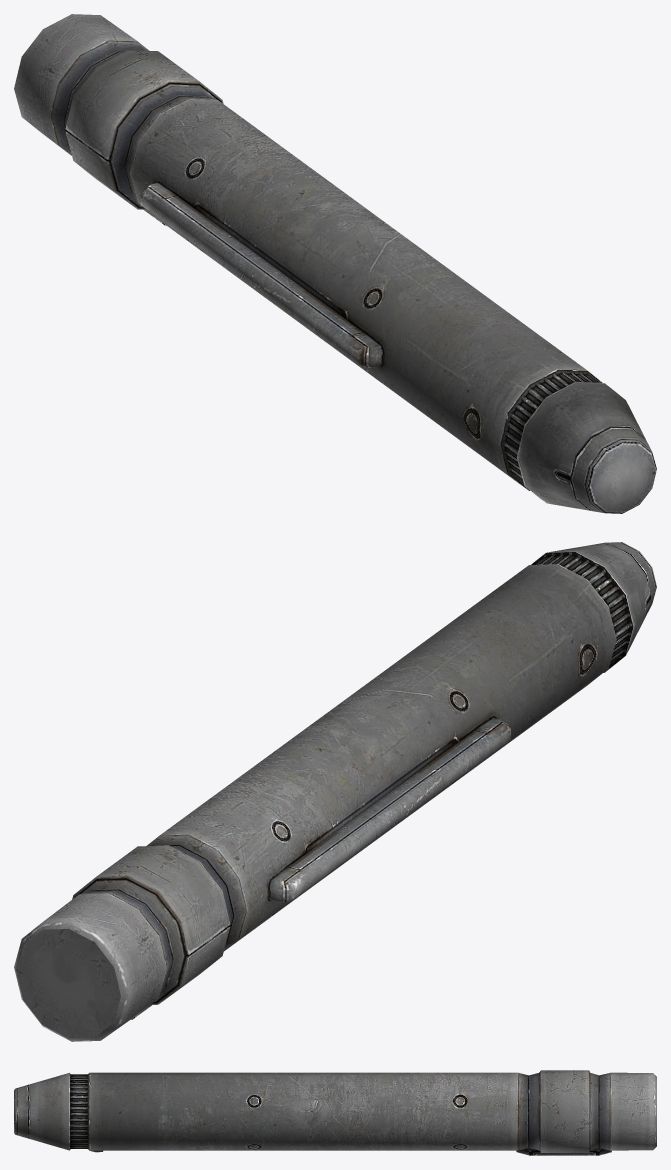
The model's file is module_ark_room_02.DAE.
3 renders of one model, top to bottom at view 1: azimuth 30°, elevation 25°; view 2: azimuth 150°, elevation 25°; view 3: azimuth 270°, elevation 25°, orthographic. The views are drawn at different scales.
Parts seen in each view (by area): view 1: module_ark_room_02; view 2: module_ark_room_02; view 3: module_ark_room_02.
Boxes of the visible parts, bbox=[...] form: module_ark_room_02: bbox=[14, 14, 656, 513]; module_ark_room_02: bbox=[14, 542, 656, 1041]; module_ark_room_02: bbox=[14, 1070, 656, 1155].
Bounding box in the file's own units: 0.4295 × 2.98 × 0.3993.
